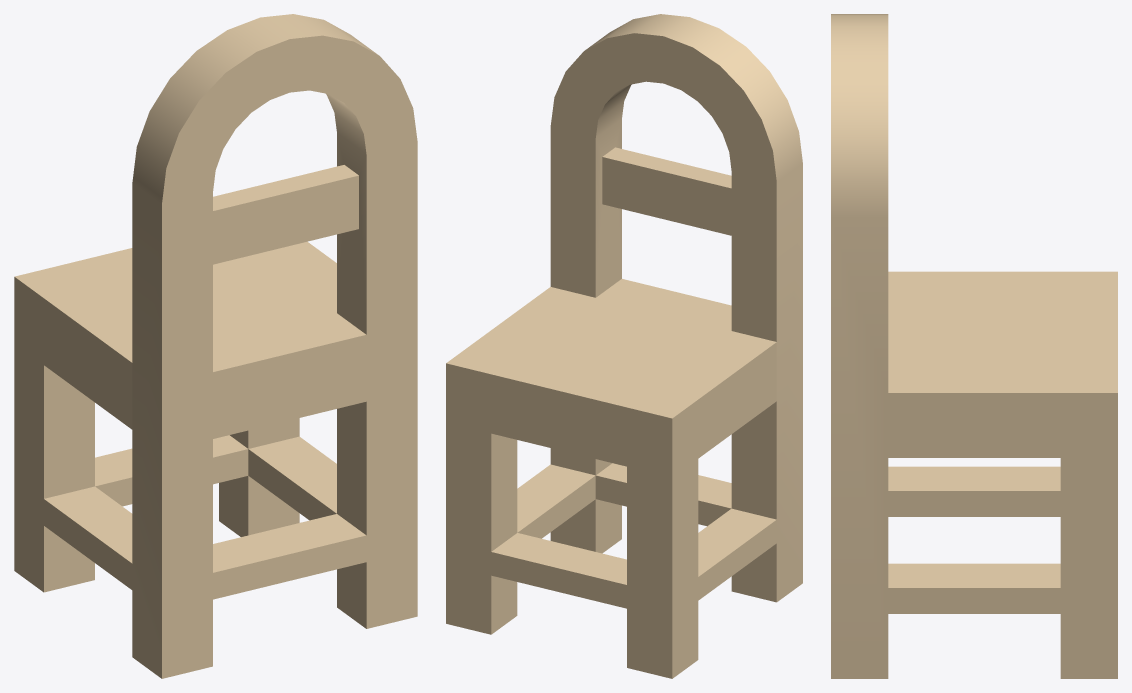
File: kenney-chair.glb
The picture shows the model from 3 angles, left to right: view 1: azimuth 30°, elevation 25°; view 2: azimuth 150°, elevation 25°; view 3: azimuth 270°, elevation 25°; orthographic projection. The views are drawn at different scales.
Parts seen in each view (by area): view 1: chairRounded; view 2: chairRounded; view 3: chairRounded.
Part boxes in pixels (x1,y1,x2,y2): chairRounded: (14,14,417,678); chairRounded: (446,14,802,678); chairRounded: (831,14,1117,678).
Size of the model in its own units: 2 by 4.55 by 2.
